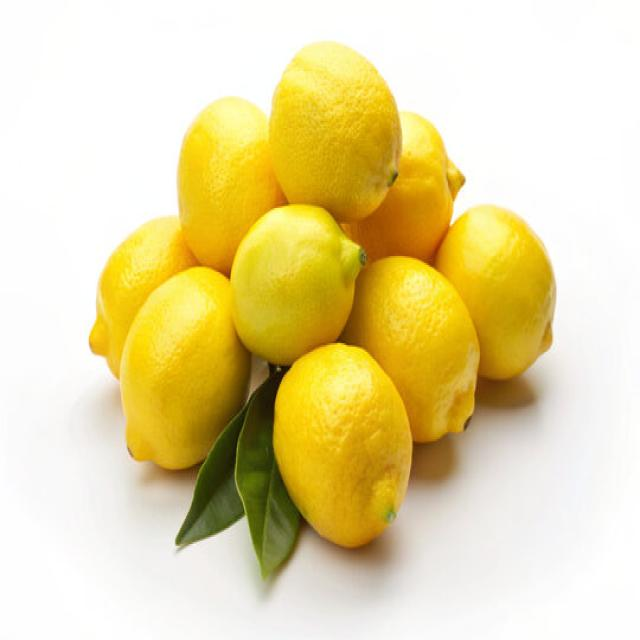Lemon: (272, 340, 412, 548), (119, 265, 250, 469), (344, 252, 480, 442), (268, 38, 402, 222), (229, 201, 366, 364), (435, 202, 556, 380), (176, 94, 284, 272), (341, 109, 465, 263), (88, 213, 196, 379)
